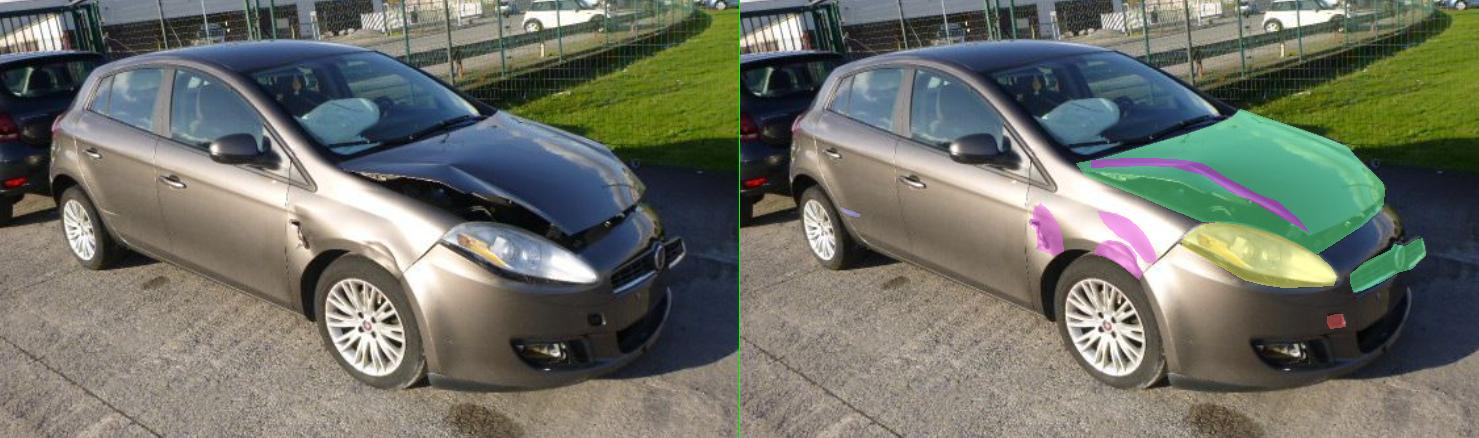Broken part: (672, 109, 1289, 254), (1221, 238, 1371, 291)
Cracked: (883, 221, 1193, 287)
Dent: (702, 158, 1139, 232), (714, 211, 833, 262), (708, 240, 805, 279), (580, 203, 646, 255)
Missing part: (1175, 314, 1211, 328)
Scratch: (578, 218, 622, 250), (202, 207, 240, 216)
